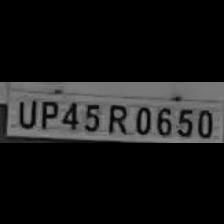0: (130, 102, 152, 134), (194, 105, 214, 137)
4: (58, 97, 80, 129)
5: (80, 98, 102, 132), (174, 102, 192, 136)
6: (152, 102, 172, 136)
P: (36, 96, 58, 128)
R: (103, 99, 129, 133)
U: (13, 95, 37, 127)
